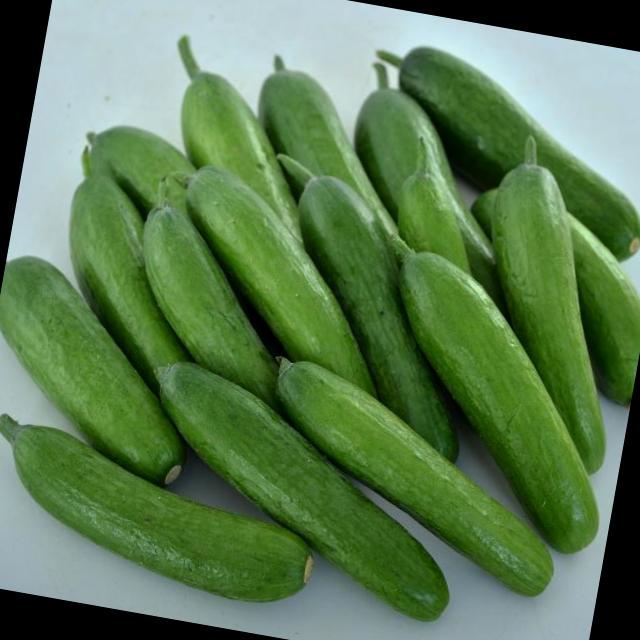Cucumber: (130, 358, 473, 620), (358, 247, 632, 554), (259, 168, 494, 452), (0, 415, 321, 605), (371, 40, 640, 255), (157, 158, 400, 392), (0, 256, 205, 481)
